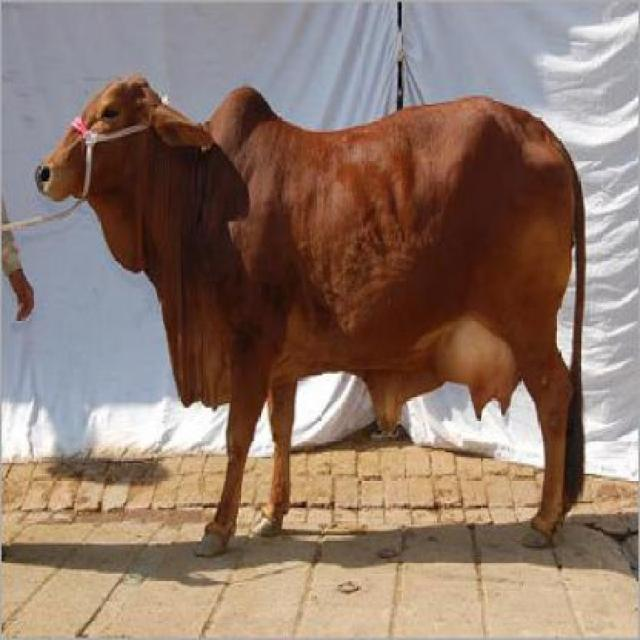Cow: (39, 71, 592, 557)
